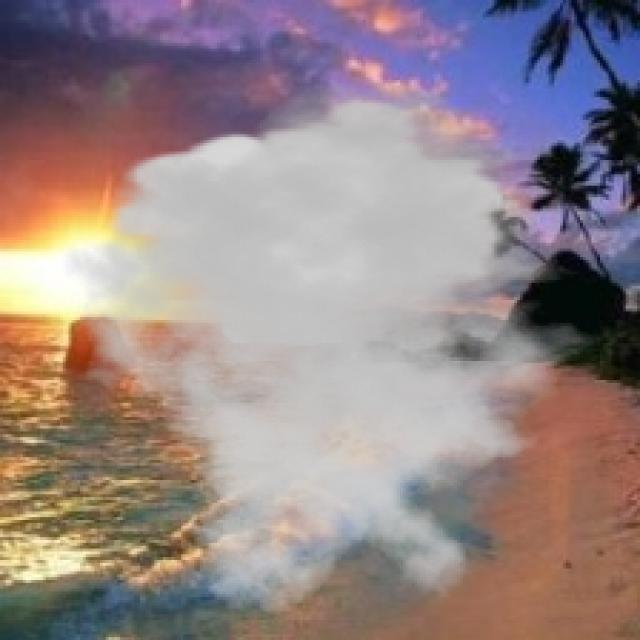Smoke: (54, 80, 623, 617)
